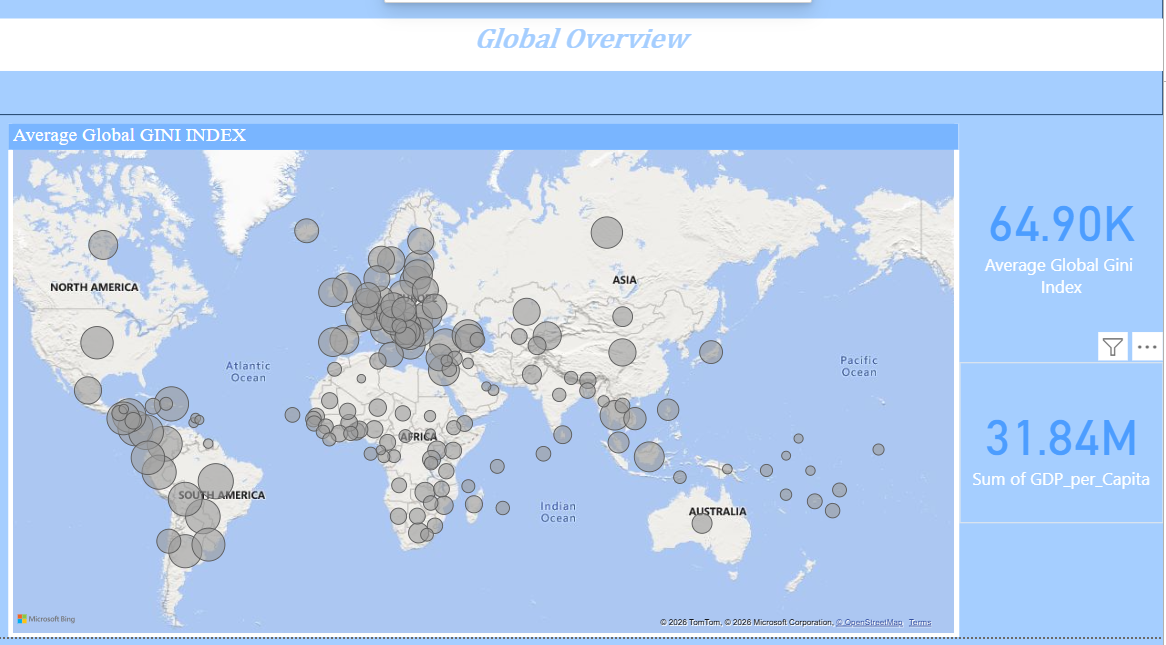

Layout of this report page (visuals, bound fields, positions):
{"tool":"powerbi","page":{"name":"Global Overview","canvas":[1280,720],"ordinal":0},"visuals":[{"type":"map","title":"Average Global GINI INDEX","fields":{"Category":["cleaned_income_data.Country Name"],"Size":["Sum(cleaned_income_data.Gini_Index)"]},"box":[12.6,157.1,1043.3,563.7],"z":0},{"type":"card","fields":{"Values":["Sum(cleaned_income_data.Gini_Index)"]},"box":[1056.6,156.4,223.7,230.5],"z":1000},{"type":"card","fields":{"Values":["Sum(cleaned_income_data.GDP_per_Capita)"]},"box":[1056.6,418.5,223.7,177],"z":2000},{"type":"shape","box":[0,0,1280.3,147.2],"z":2001},{"type":"textbox","box":[0,40.7,1280.3,57.5],"z":2002}]}

Visuals, with their boxes in screenshot pixels (x1, y1, x2, y2), scaled from the page's 1280x720 canvas onto the 1166x645 screenshot:
"Average Global GINI INDEX" map: (11,141,962,644)
card - Sum(cleaned_income_data.Gini_Index): (962,140,1165,347)
card - Sum(cleaned_income_data.GDP_per_Capita): (962,375,1165,533)
shape: (0,0,1165,132)
textbox: (0,36,1165,88)
